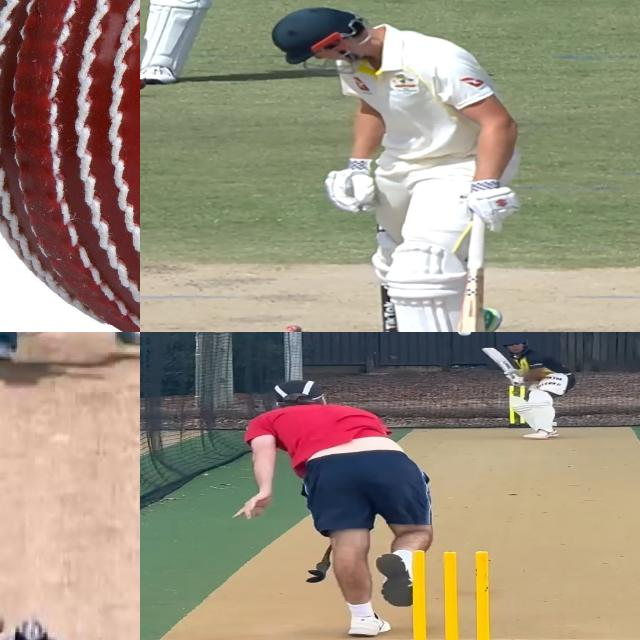Cricket ball: (0, 0, 140, 332), (453, 332, 475, 338)
Stumps: (401, 550, 504, 640)
